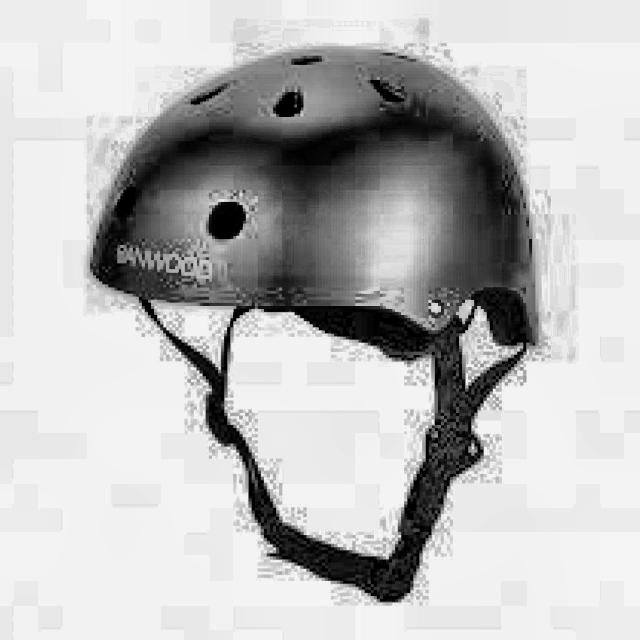Helmet: (79, 40, 558, 619)
